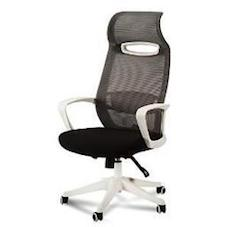chair: (41, 10, 192, 222)
